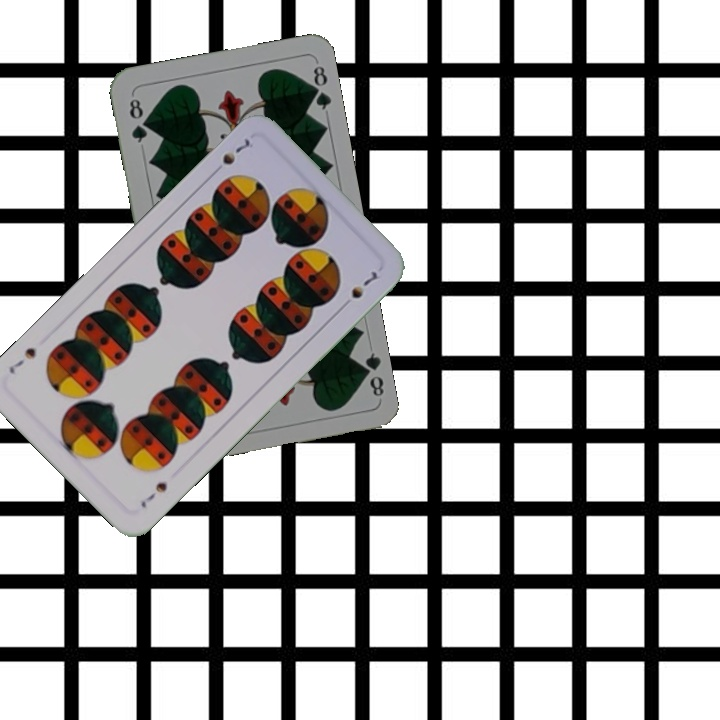G8: (355, 348, 387, 399), (125, 94, 151, 146)
S7: (207, 134, 253, 178), (136, 478, 170, 511)
